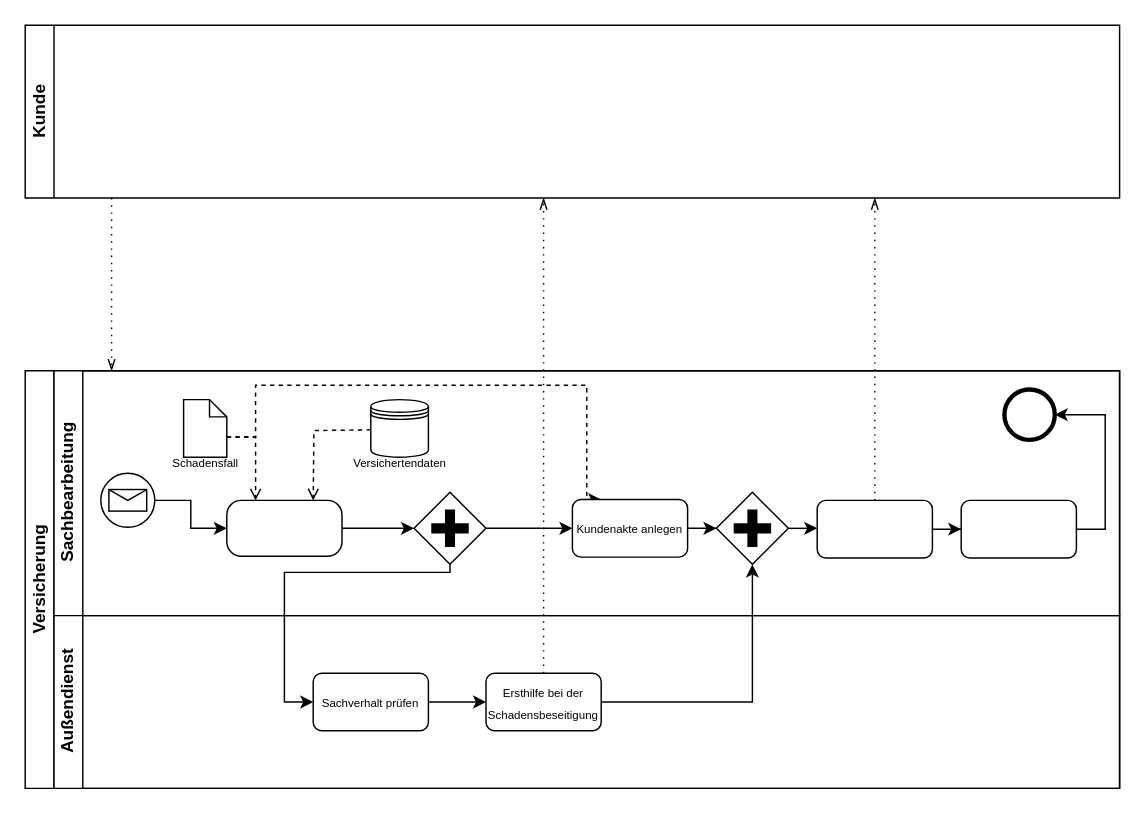
This 1145x814 diagram has some shape labels left out. The shapes that lost their labels are listed below. From the top down, each one's centre as x and y in pixels, then its label:
At point 283,527: "veranlassen: Sachverhalt Prüfen".
At point 874,528: "Schadensregulierung".
At point 1018,528: "Akte schließen".
